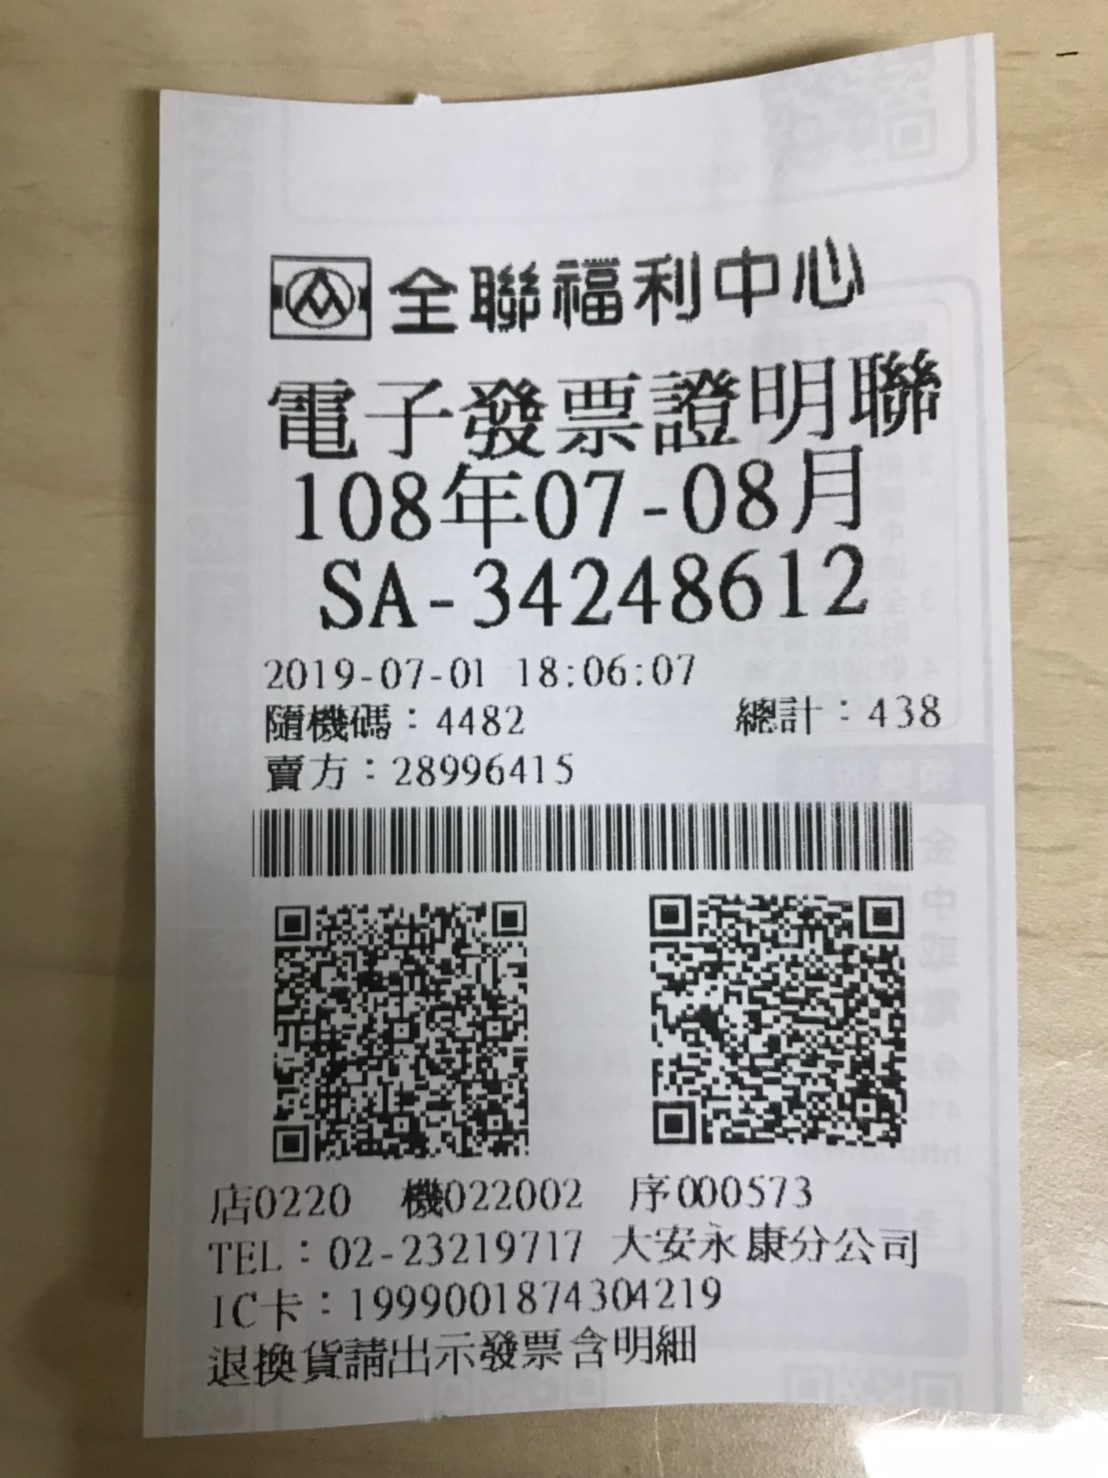Date_New: (294, 440, 871, 545)
Number_New: (474, 539, 869, 632)
